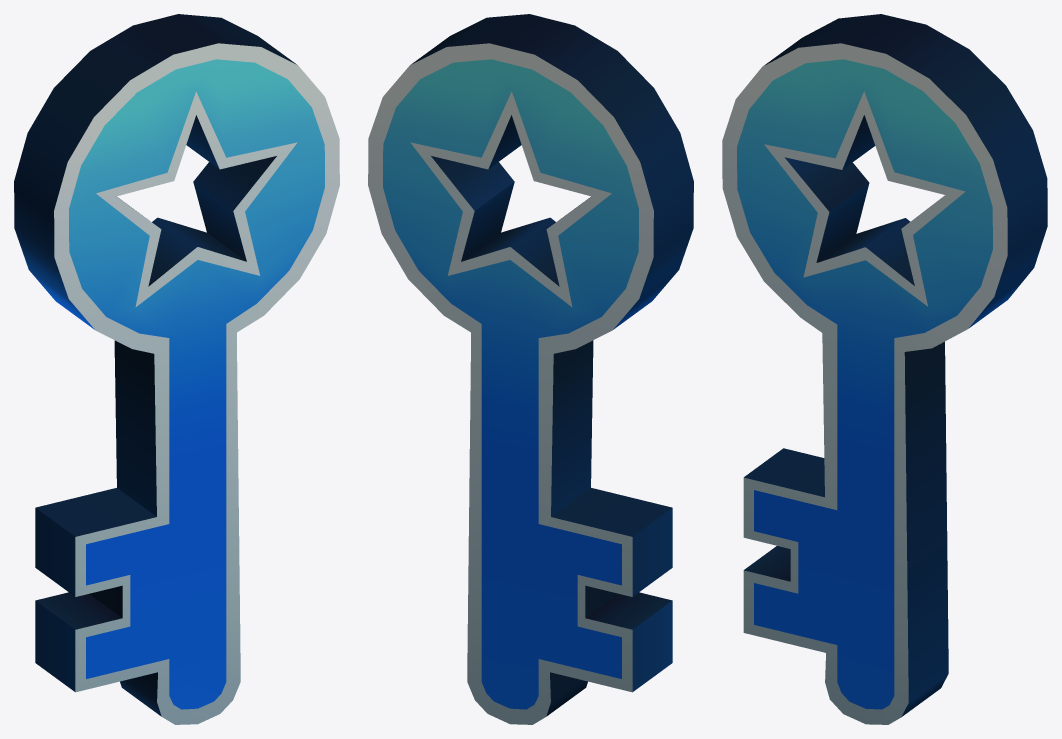
Rendered from KeyIcon_0.glb.
3 renders of one model, left to right at view 1: azimuth 30°, elevation 25°; view 2: azimuth 150°, elevation 25°; view 3: azimuth 330°, elevation 25°, orthographic.
Parts seen in each view (by area): view 1: KeyIcon; view 2: KeyIcon; view 3: KeyIcon.
Boxes of the visible parts, x1,y1,x2,y2 form: KeyIcon: (14,14,339,724); KeyIcon: (368,14,693,724); KeyIcon: (722,14,1047,724).
Bounding box in the file's own units: 4.28 × 9.67 × 1.04.
Materials: 1 (1 with a texture image).
